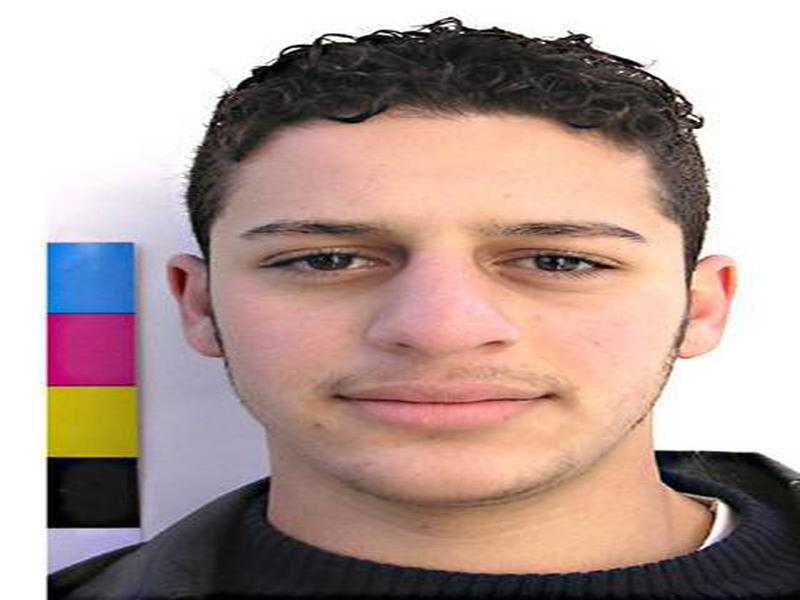without_mask: (193, 110, 691, 502)
